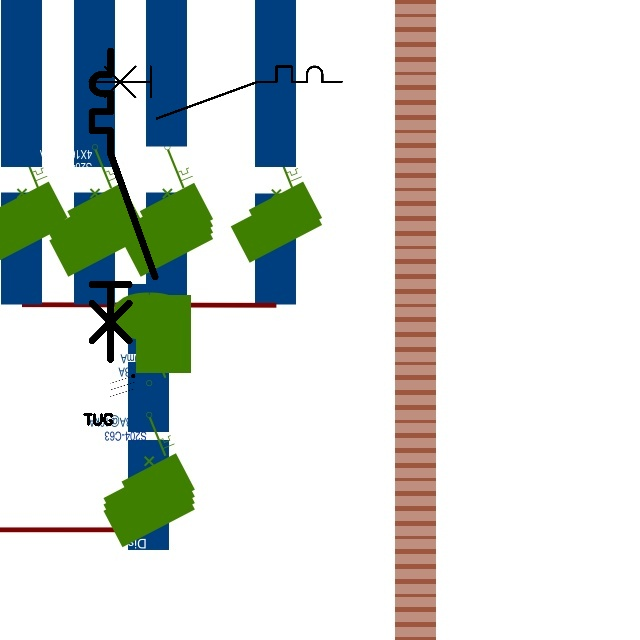interruptor_termomagnetico: (84, 43, 163, 367), (83, 60, 348, 125)
